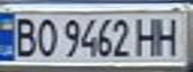2: (112, 16, 136, 57)
4: (78, 16, 100, 58)
6: (96, 16, 115, 58)
9: (60, 16, 81, 58)
B: (9, 15, 39, 58)
H: (151, 14, 184, 56), (133, 15, 163, 57)
O: (33, 16, 57, 58)
